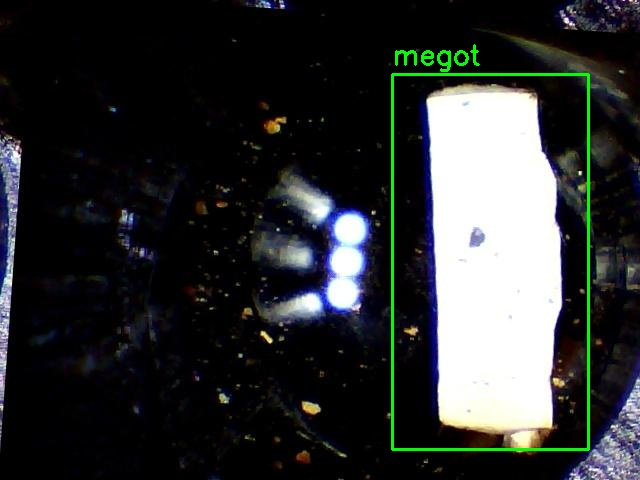megot: (392, 74, 588, 449)
